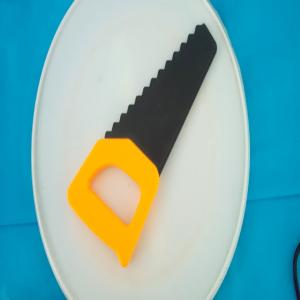serrote: (66, 22, 218, 268)
